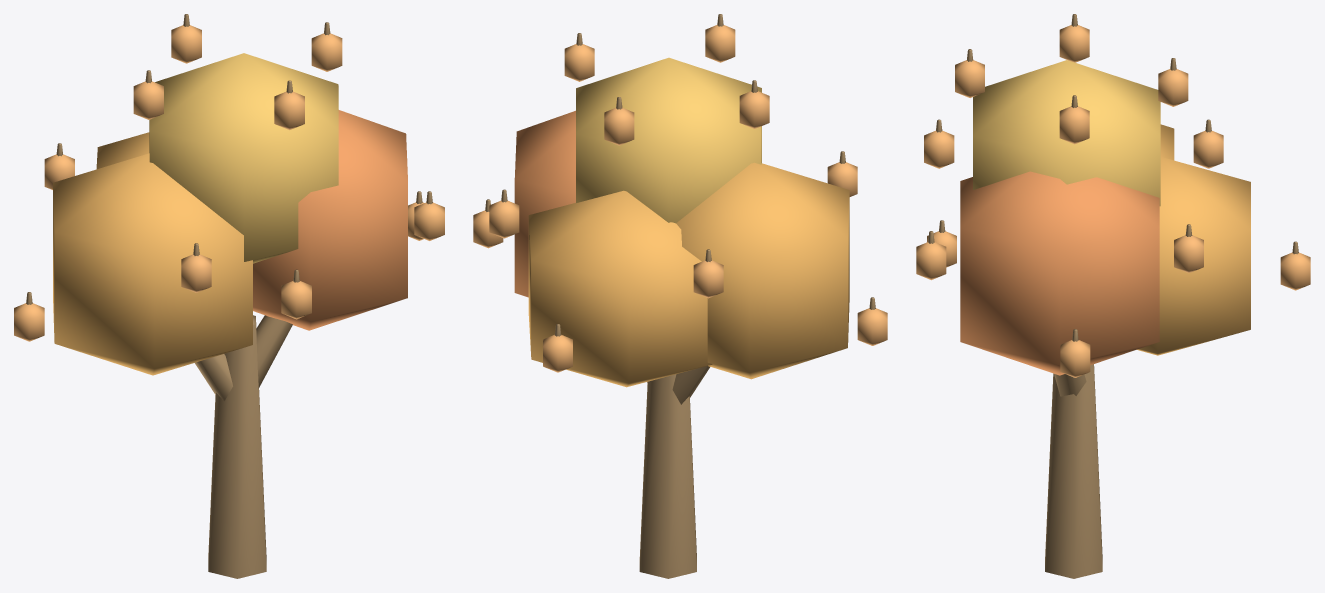
Rendered from tree_fruit_autumn_low.glb.
3 renders of one model, left to right at view 1: azimuth 30°, elevation 25°; view 2: azimuth 150°, elevation 25°; view 3: azimuth 270°, elevation 25°, orthographic.
Bounding box in the file's own units: 2.74 × 3.25 × 2.26.
